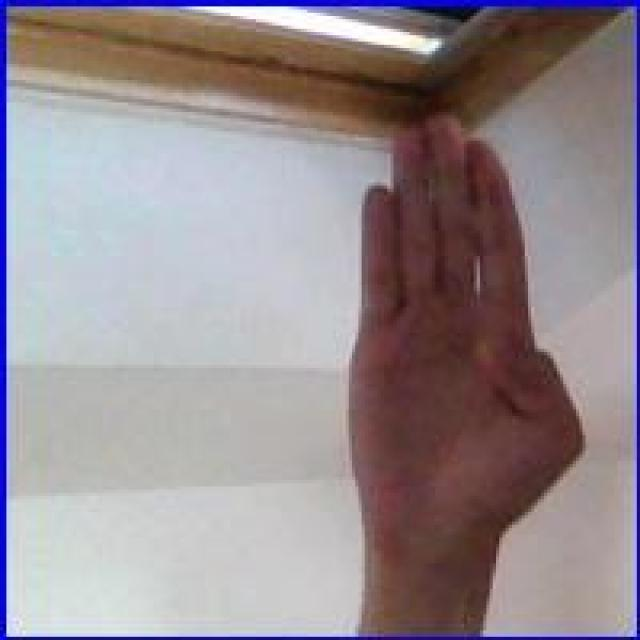B: (342, 99, 592, 576)
